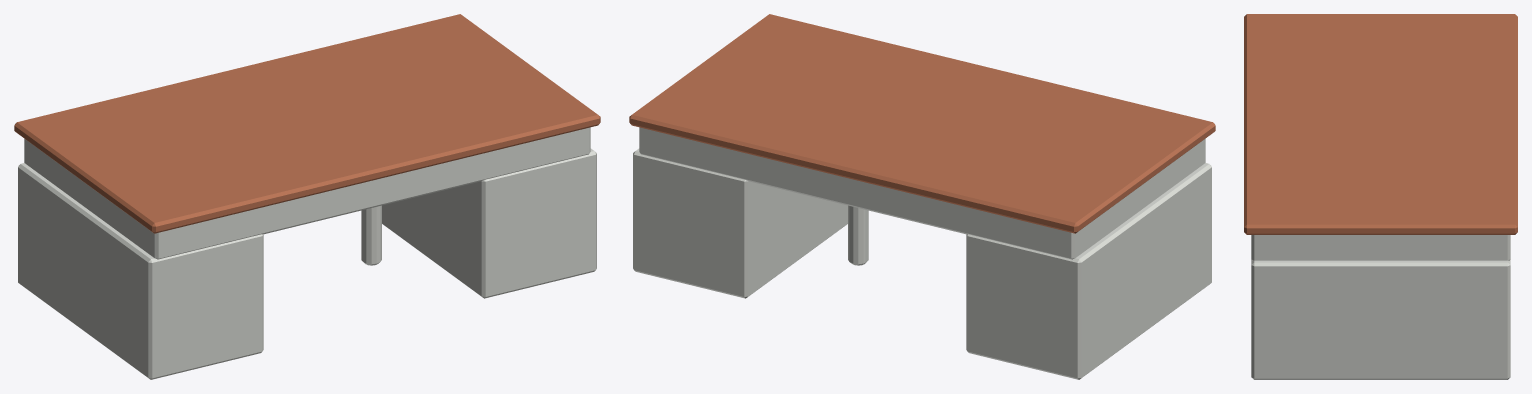
File: propylaea_hero.glb
3 views of the same model, side by side, from view 1: azimuth 30°, elevation 25°; view 2: azimuth 150°, elevation 25°; view 3: azimuth 270°, elevation 25° (orthographic). The views are drawn at different scales.
Parts seen in each view (by area): view 1: gateway_wing; view 2: gateway_wing; view 3: gateway_wing.
Boxes of the visible parts, x1,y1,x2,y2 form: gateway_wing: [14, 14, 600, 379]; gateway_wing: [629, 14, 1215, 379]; gateway_wing: [1244, 14, 1517, 379].
Size of the model in its own units: 35 by 11.9 by 19.
